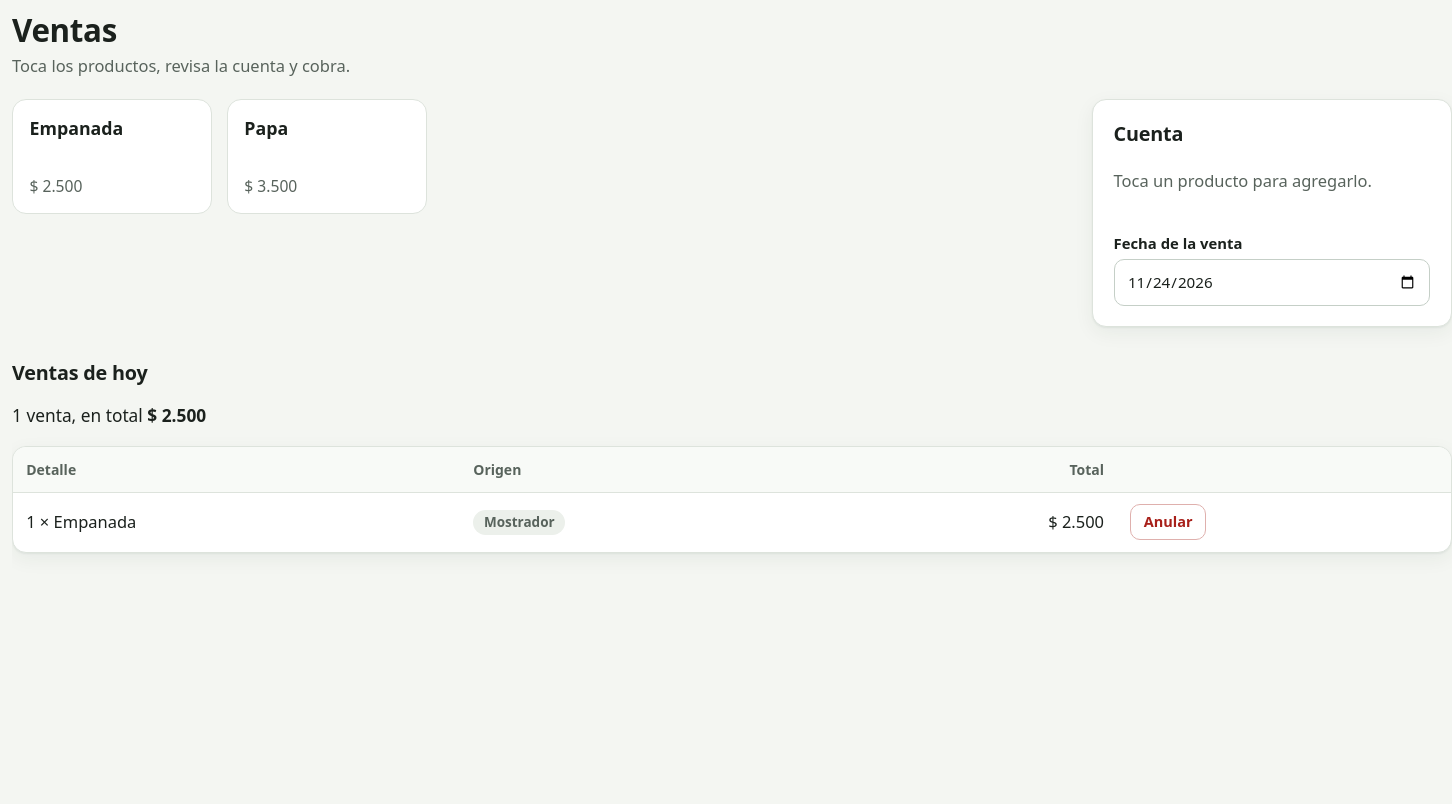
it: HU-06 y HU-23 Venta rápida (funcionales) › HU-23 CA-2: se puede quitar una unidad antes de cobrar
What coordinates should you click on to do the following:
click the button "Empanada $ 2.500"
I would click on:
 (112, 157)
Its box is [12,99,212,214].
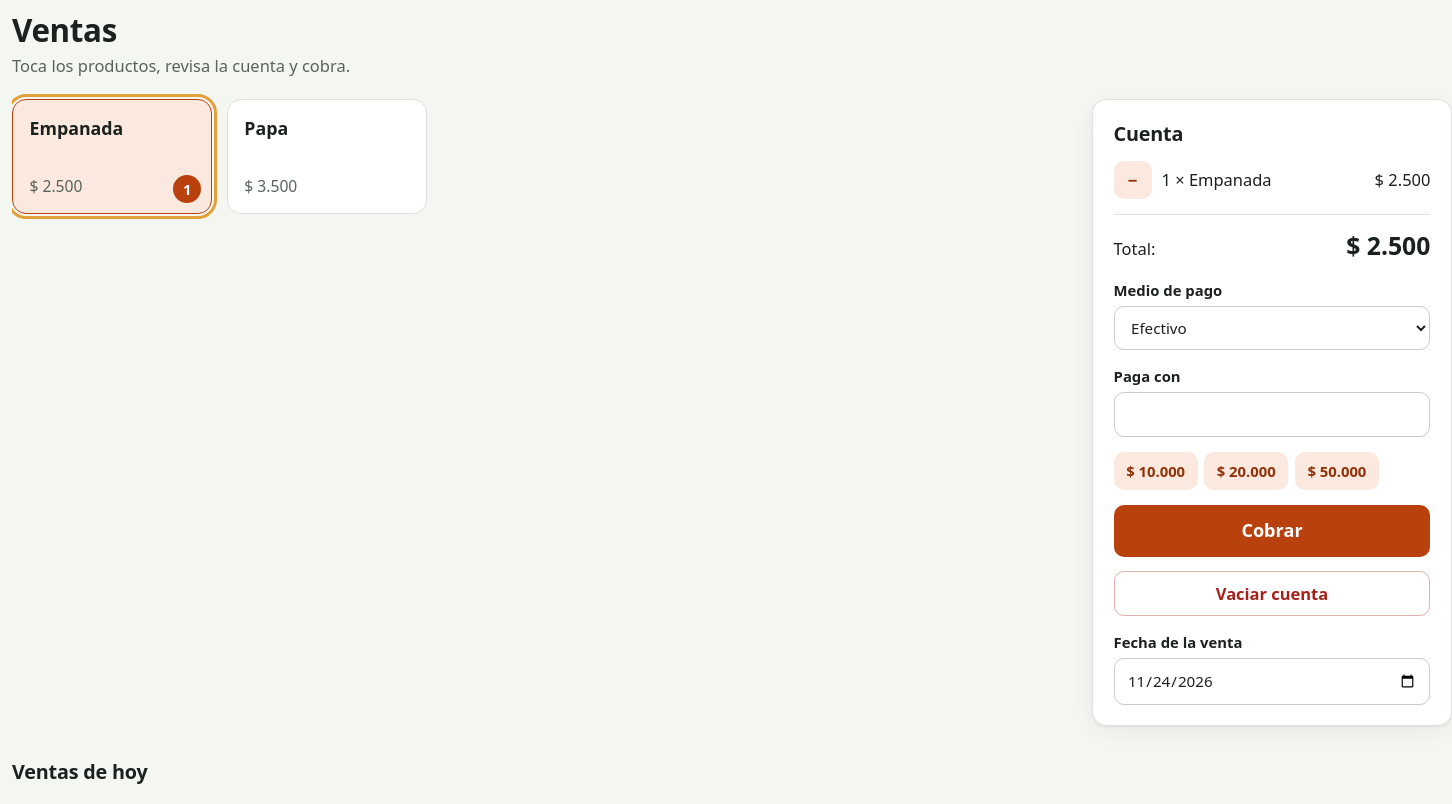
What coordinates should you click on to do the following:
click the button named "Quitar Empanada"
I would click on:
 (1133, 180)
Its box is [1114,161,1152,199].
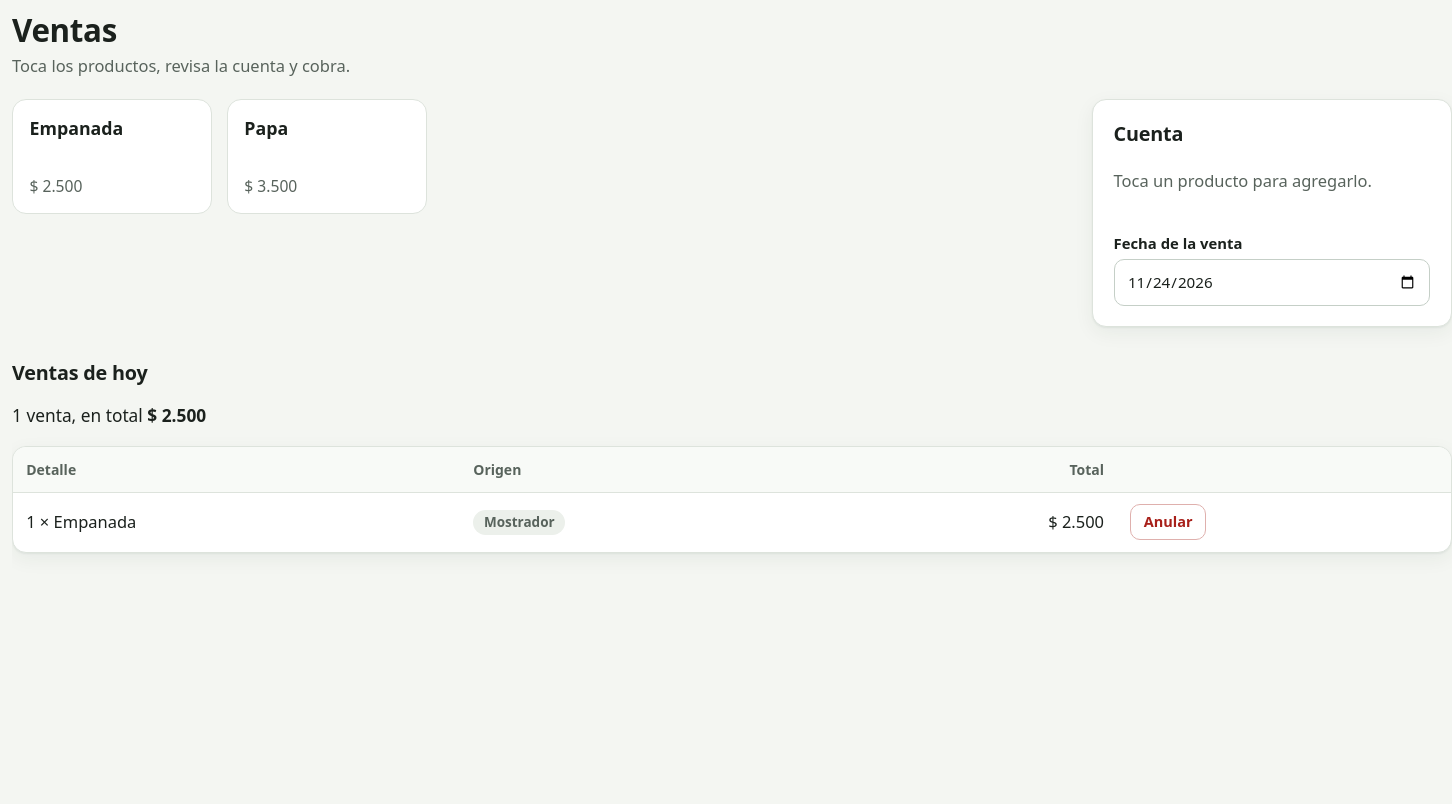
Now the button "Cobrar" is gone
